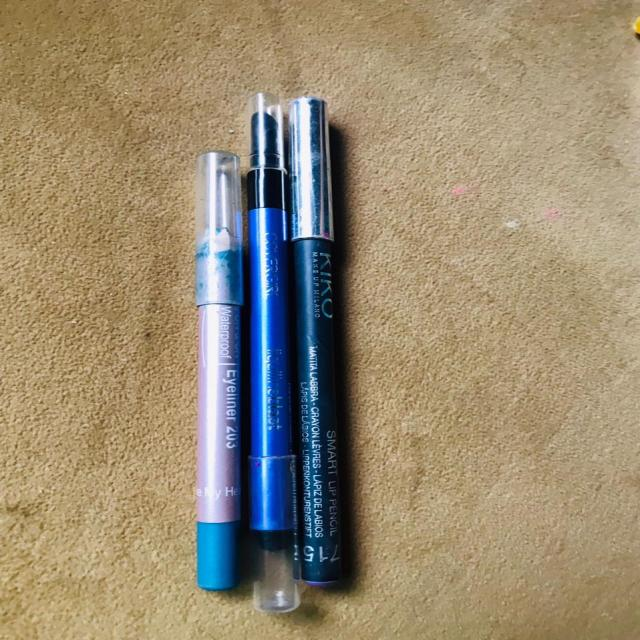eye liner: (277, 81, 368, 596), (230, 85, 300, 640), (174, 139, 250, 600)
